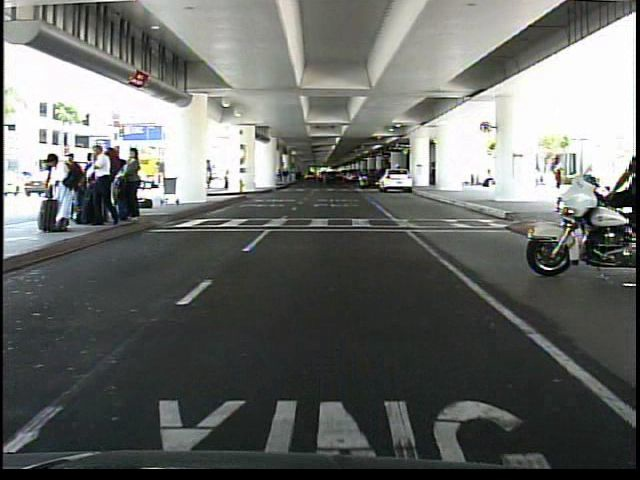person: (608, 126, 640, 224), (544, 156, 567, 195), (481, 163, 495, 195)
